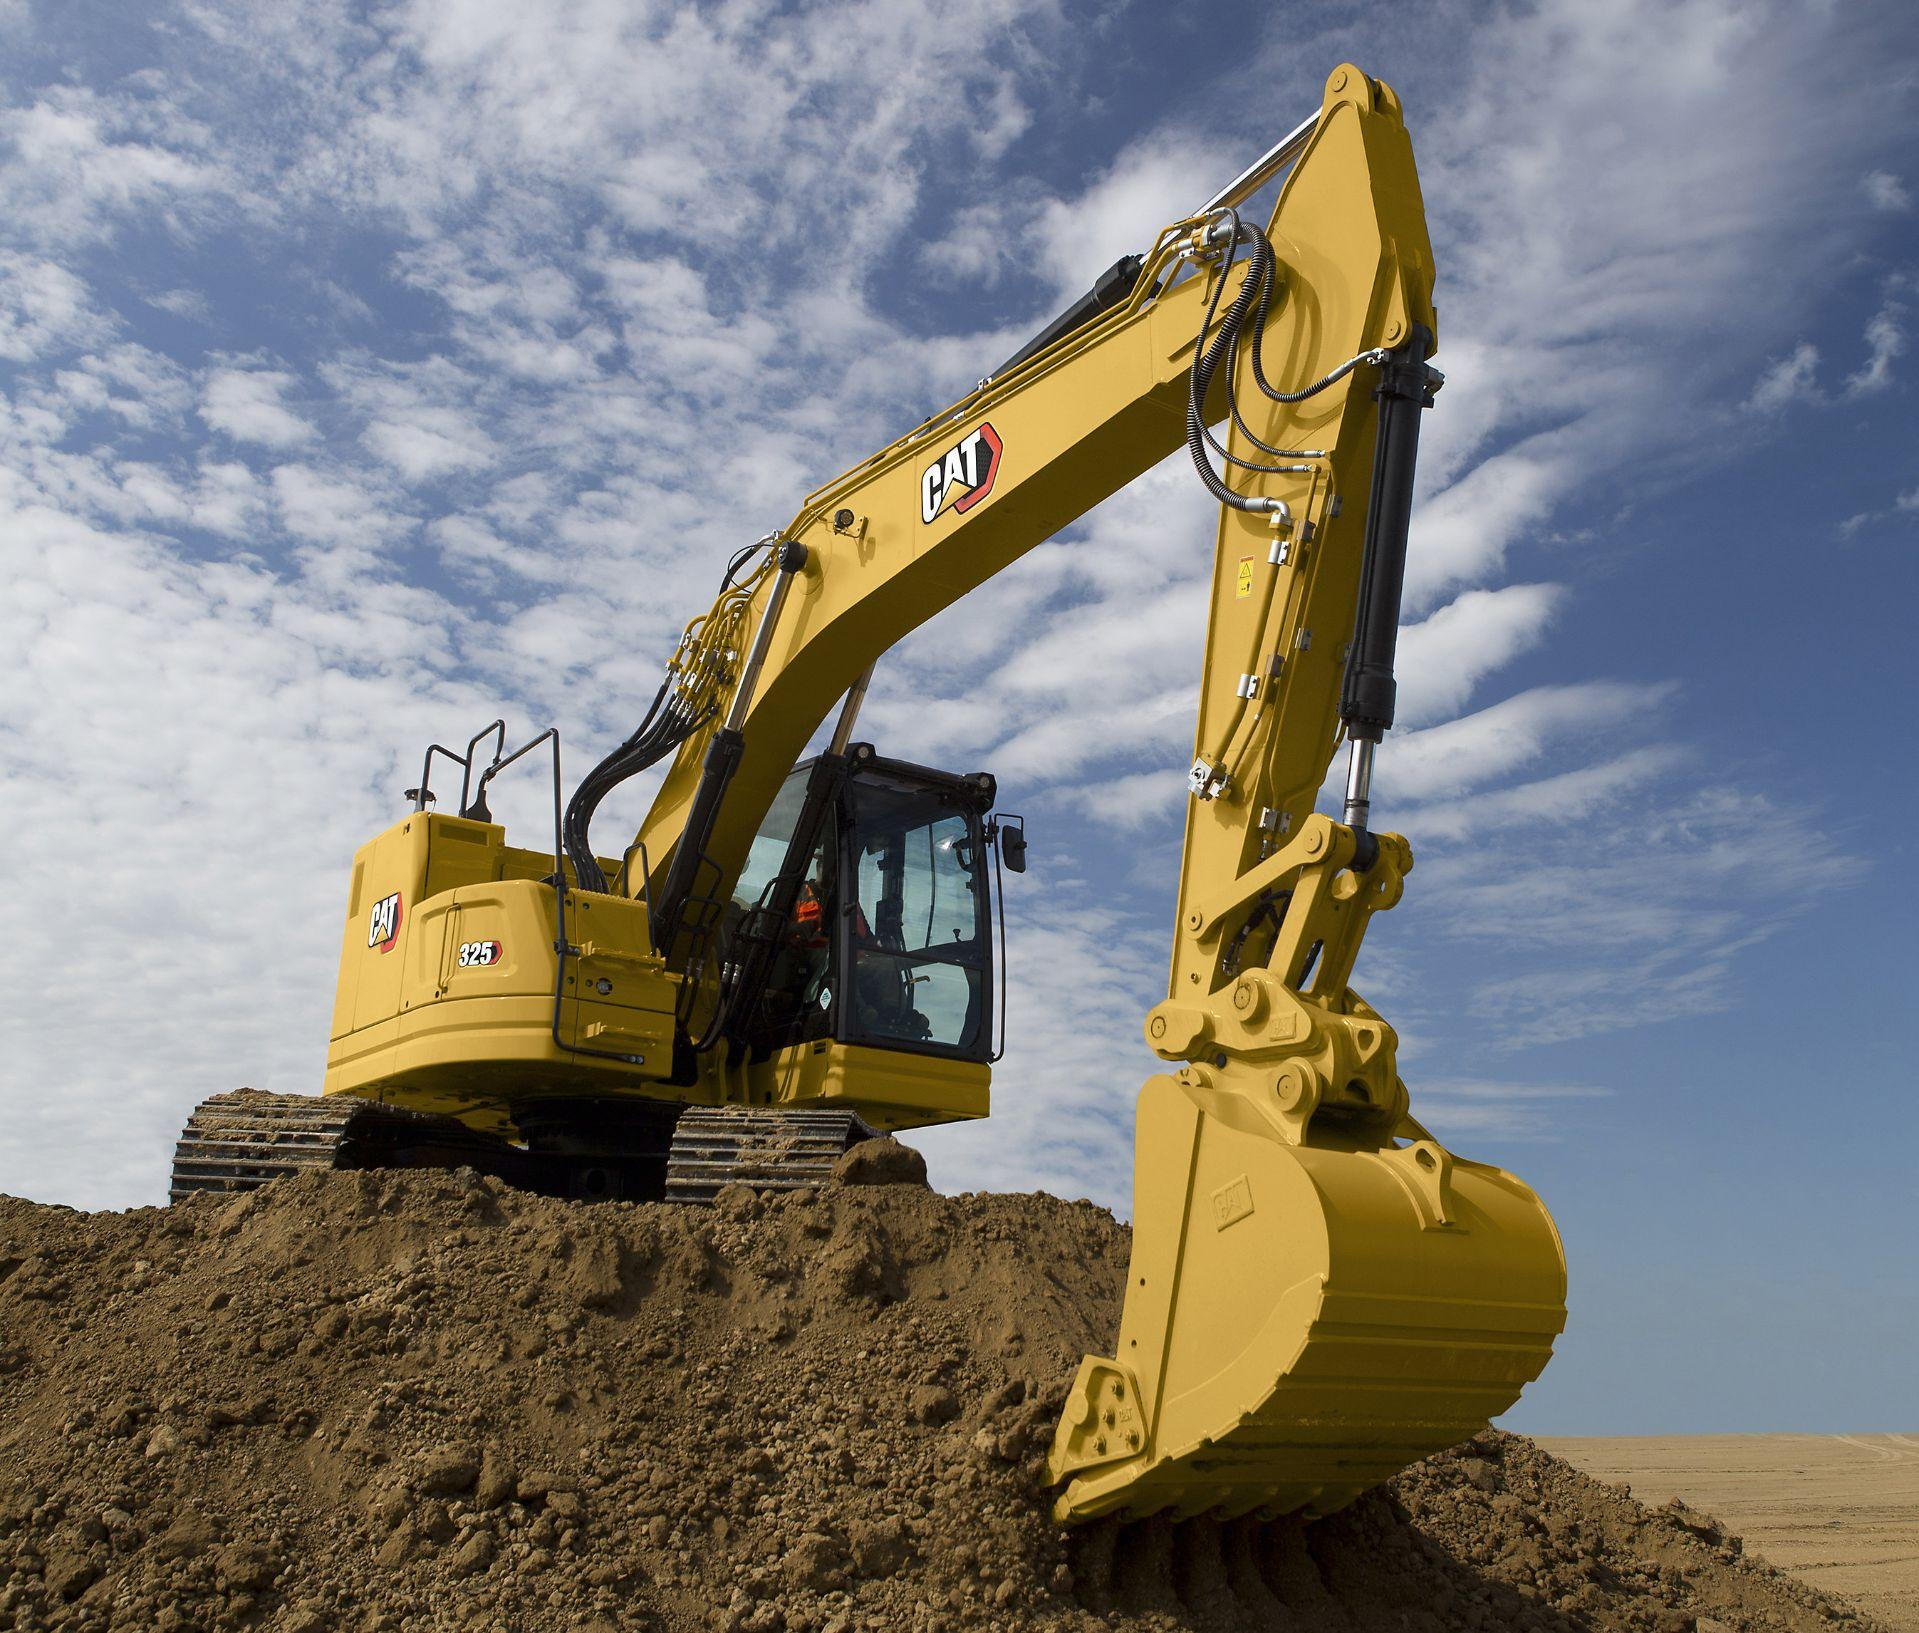excavator: (330, 62, 1550, 1477)
